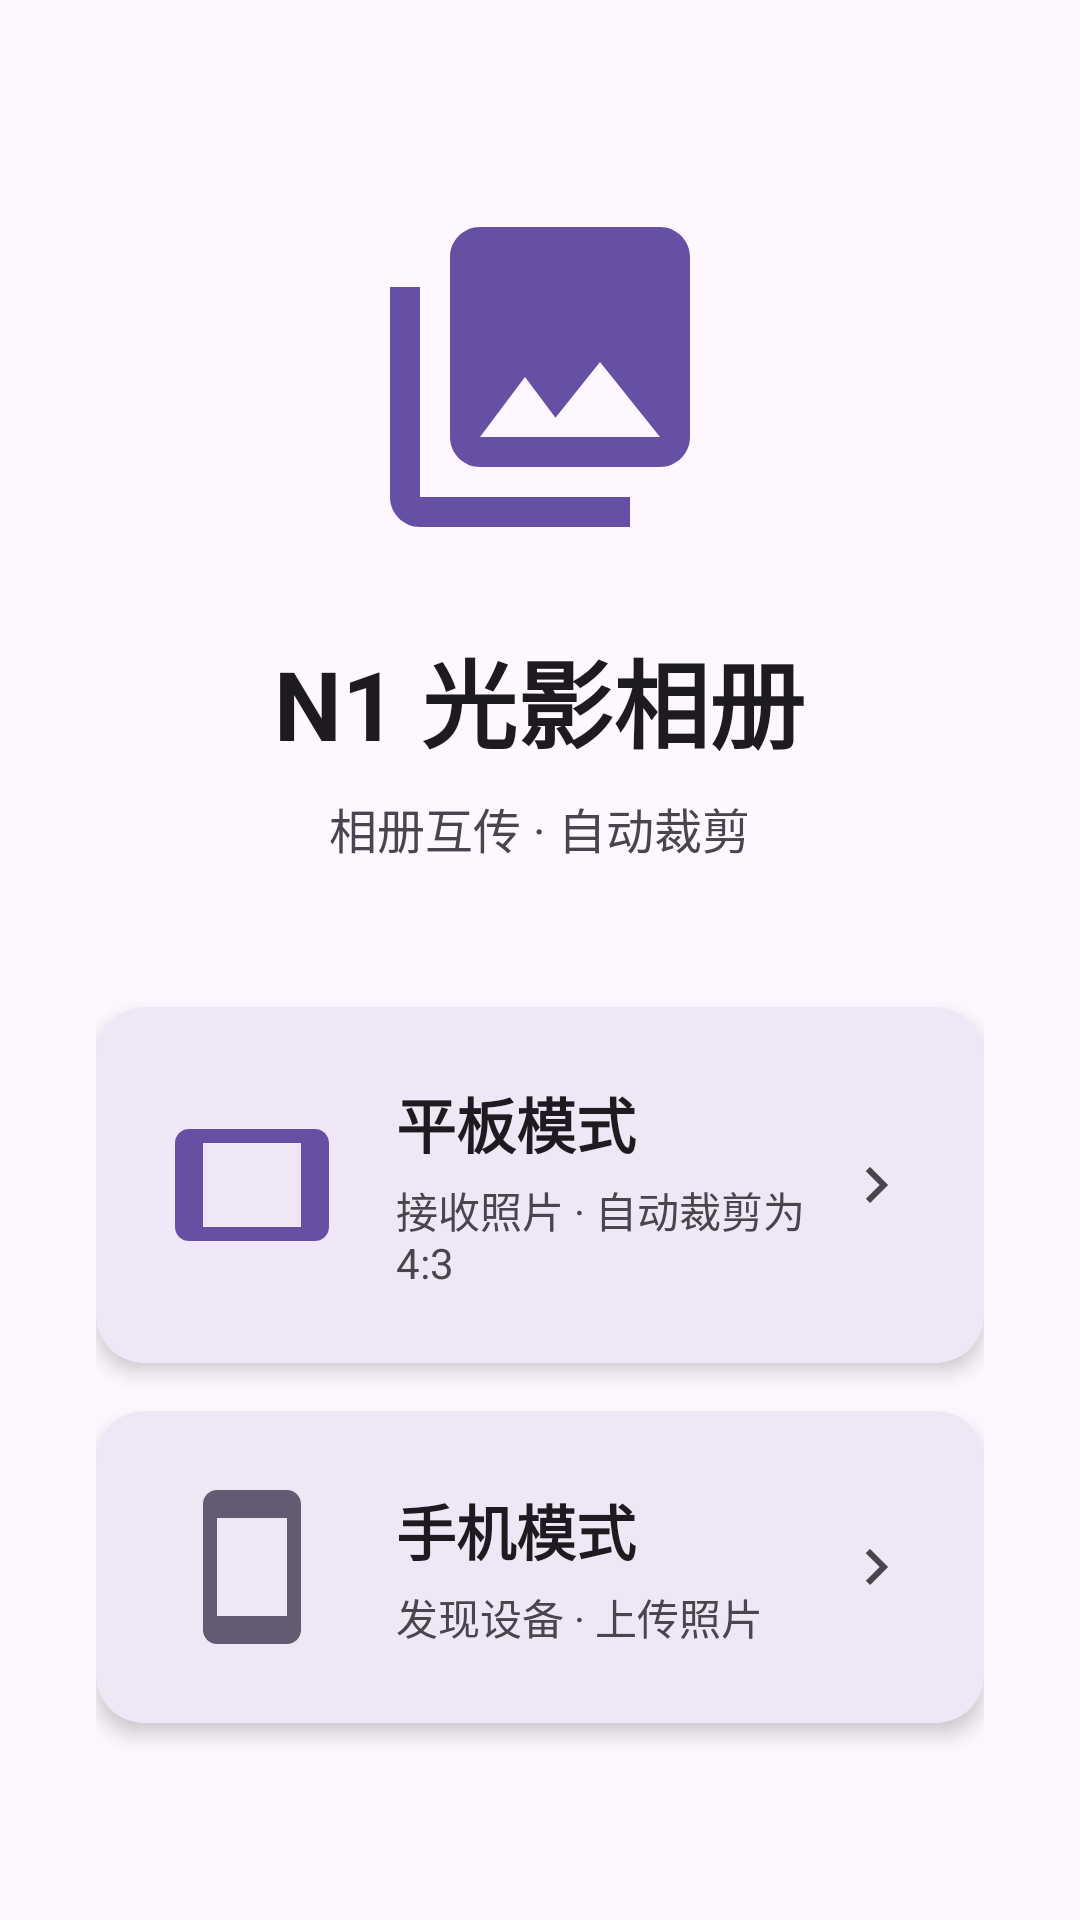

Icon click points for this 1080 x 1920 phone screenshot, format point (x, y):
album: point (540, 377)
arrow right: point (877, 1185), point (877, 1567)
phone: point (252, 1567)
tablet: point (252, 1185)
